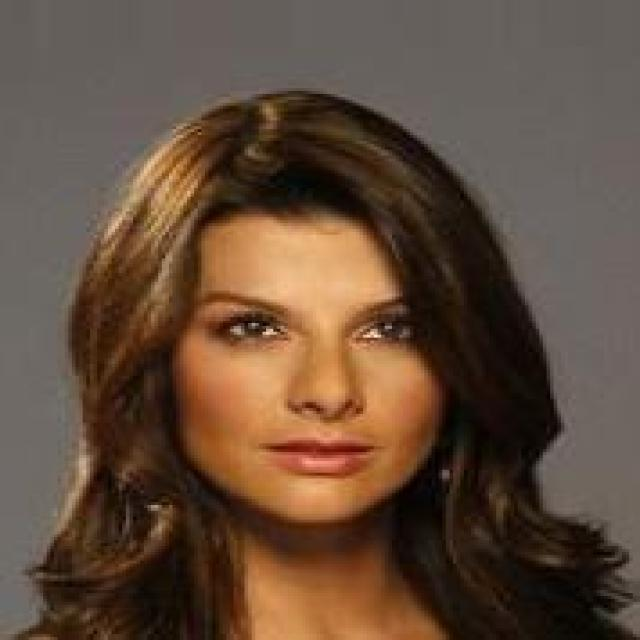bareface: (178, 101, 446, 526)
